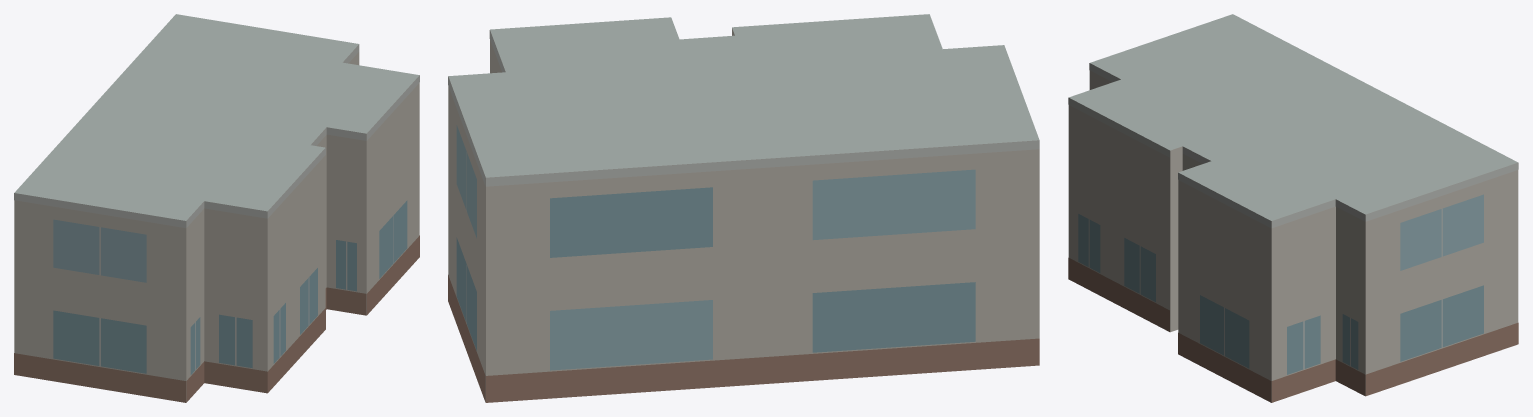
File: survey-upis-32679736.glb
3 renders of one model, left to right at view 1: azimuth 30°, elevation 25°; view 2: azimuth 150°, elevation 25°; view 3: azimuth 270°, elevation 25°, orthographic. The views are drawn at different scales.
Parts seen in each view (by area): view 1: survey-upis-32679736.tmp; view 2: survey-upis-32679736.tmp; view 3: survey-upis-32679736.tmp.
Boxes of the visible parts, box(x1,y1,x2,y2) form: survey-upis-32679736.tmp: box(14, 14, 419, 402); survey-upis-32679736.tmp: box(448, 14, 1039, 402); survey-upis-32679736.tmp: box(1068, 14, 1518, 402).
Size of the model in its own units: 14.92 by 6.1 by 13.69.
